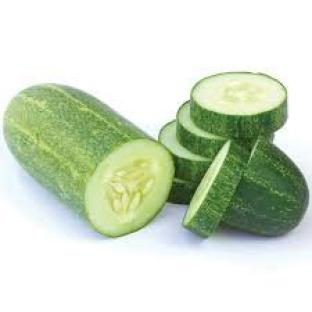Cucumber: (5, 85, 174, 237), (224, 139, 309, 235), (192, 73, 287, 138), (184, 141, 248, 237), (159, 121, 212, 183), (177, 102, 228, 158), (168, 178, 196, 203)
